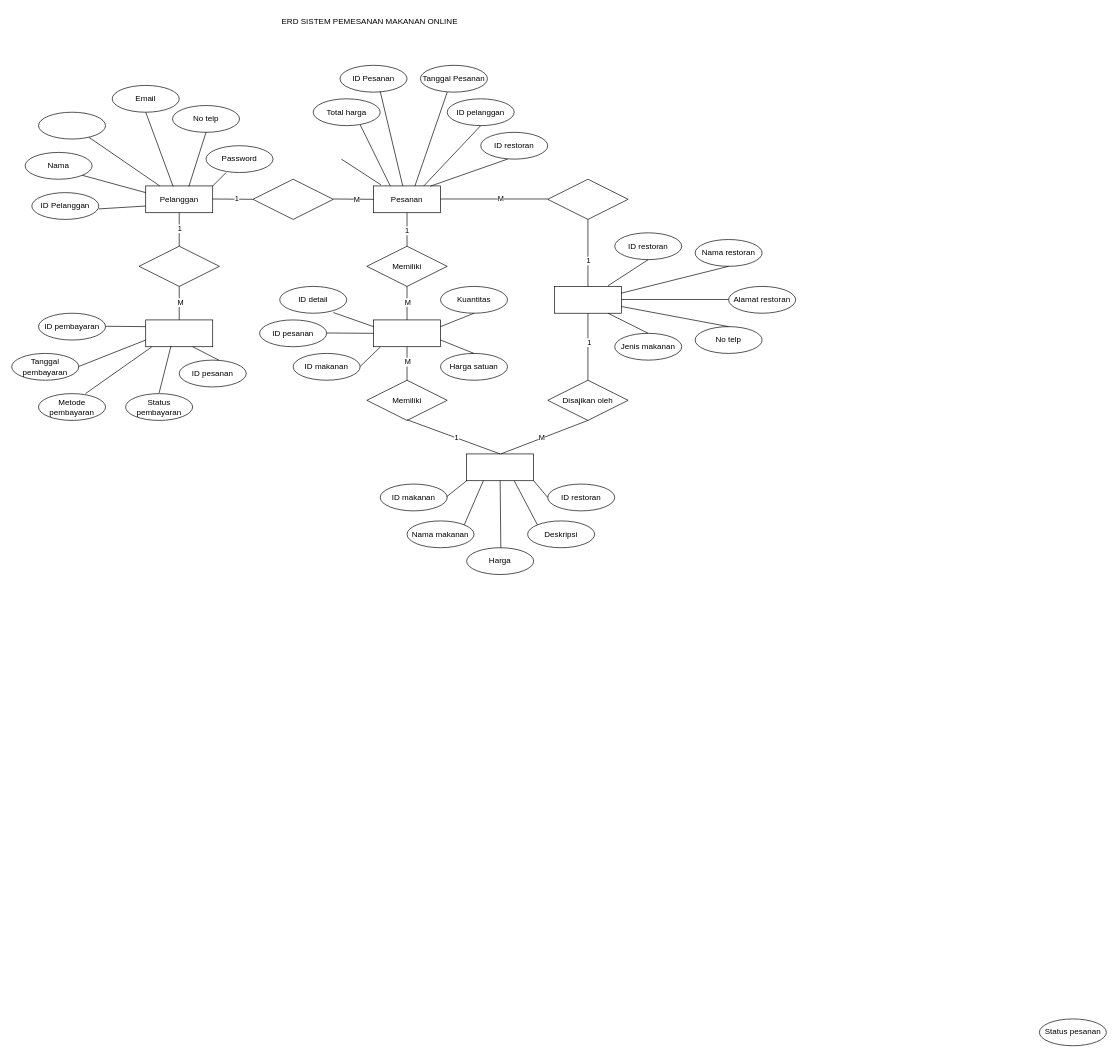
Some shapes in this 1118 by 1057 pixel diagram are drawn without their labels. The centre of each missing label's shape, as x and y in pixels:
"Alamat" goes at (x=72, y=125).
"Detail pesanan" goes at (x=407, y=333).
"Makanan" goes at (x=500, y=467).
"Melakukan" goes at (x=178, y=266).
"Membuat" goes at (x=292, y=199).
"Menerima" goes at (x=587, y=199).
"Pembayaran" goes at (x=179, y=333).
"Restoran" goes at (x=587, y=299).
